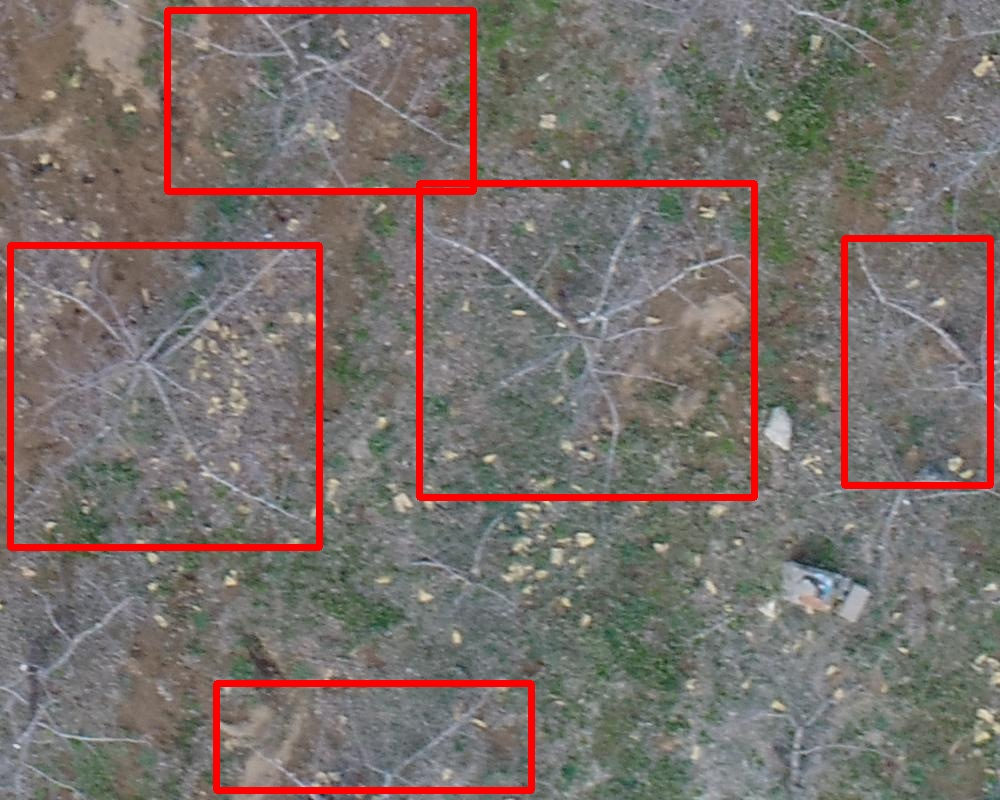apple: (419, 183, 754, 497), (10, 245, 319, 547), (167, 10, 473, 191), (844, 238, 990, 485), (216, 683, 531, 790)
